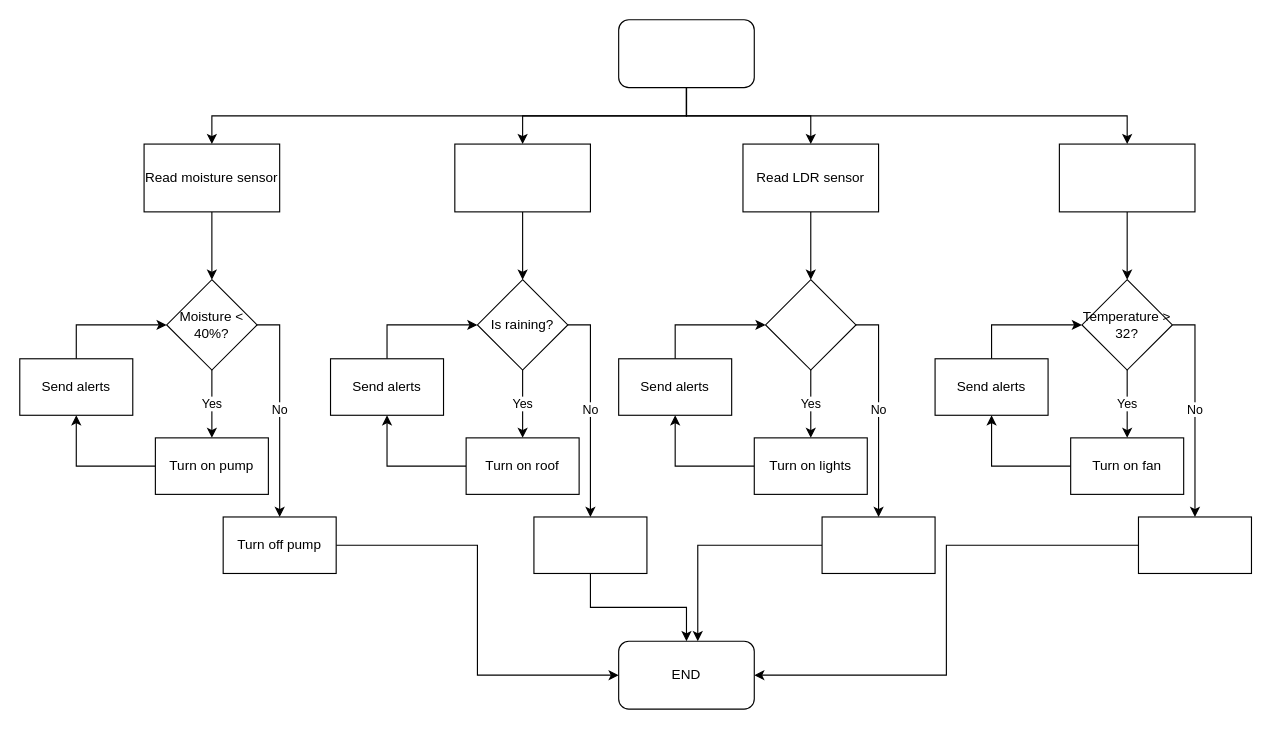
The diagram is 1271 pixels wide and 729 high, and some of its shapes have lost their labels. Here are the shapes that lost their labels. From the top down, the box of each, then its label:
(618, 19, 754, 88): START
(454, 143, 590, 212): Read rain sensor
(1058, 143, 1195, 212): Read DHT11 sensor
(764, 279, 856, 370): Brightness < 500?
(533, 516, 647, 573): Turn off roof
(821, 516, 935, 573): Turn off lights
(1137, 516, 1251, 573): Turn off fan
